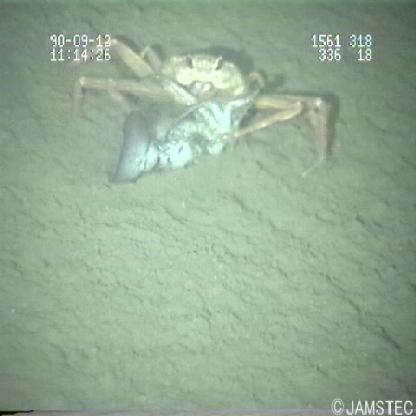Bio: (64, 32, 339, 188)
